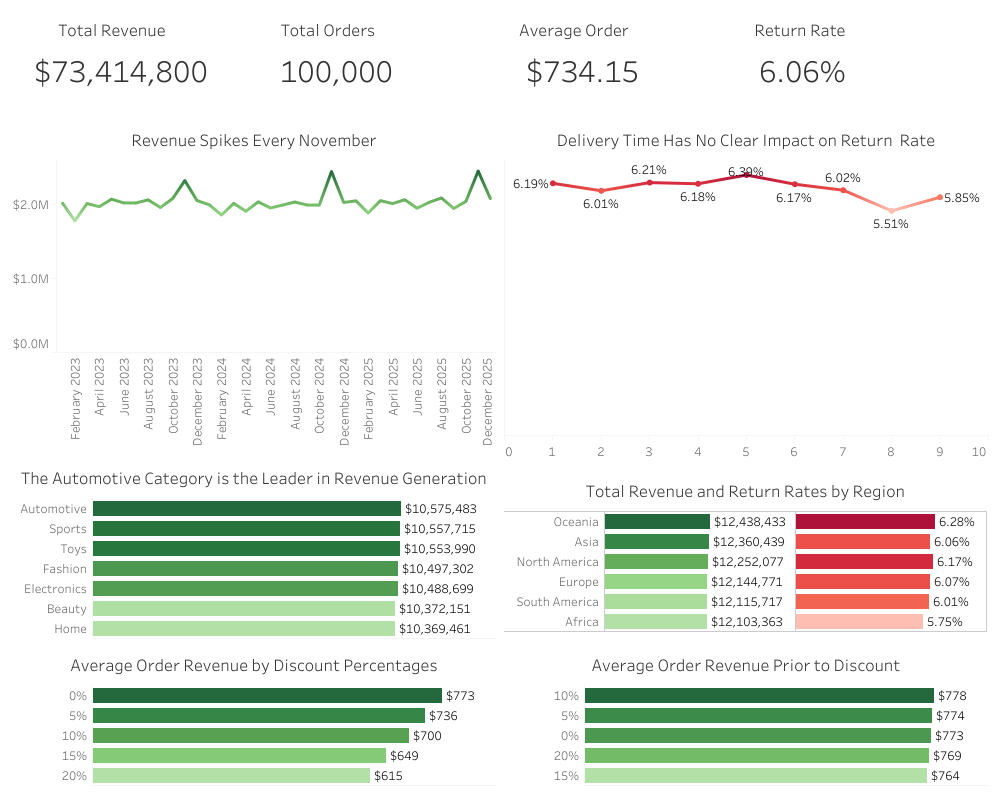

The page's visual inventory and layout, read from the dashboard file:
{"tool":"tableau","page":{"name":"ecommerce analysis","canvas":[1000,800],"ordinal":0},"visuals":[{"type":"worksheet","title":"total revenue  kpi","mark":"Automatic","box":[8,8,246,110]},{"type":"worksheet","title":"total orders kpi","mark":"Automatic","box":[254,8,246,110]},{"type":"worksheet","title":"average order kpi","mark":"Automatic","box":[500,8,246,110]},{"type":"worksheet","title":"return rate kpi","mark":"Automatic","box":[746,8,246,110]},{"type":"worksheet","title":"revenue over time","mark":"Automatic","rows":["revenue"],"cols":["order_date"],"box":[8,118,492,338]},{"type":"worksheet","title":"return rate vs delivery time","mark":"Automatic","rows":["is_returned"],"cols":["delivery_days"],"box":[500,118,492,351]},{"type":"worksheet","title":"revenue by product category","mark":"Automatic","rows":["product_category"],"cols":["revenue"],"box":[8,456,492,187]},{"type":"worksheet","title":"regional performance","mark":"Automatic","rows":["region"],"cols":["revenue","is_returned"],"box":[500,469,492,174]},{"type":"worksheet","title":"average revenue","mark":"Automatic","rows":["discount_percent"],"cols":["revenue"],"box":[8,643,492,149]},{"type":"worksheet","title":"average original revenue","mark":"Automatic","rows":["discount_percent"],"cols":["original_value"],"box":[500,643,492,149]}]}

Visuals, with their boxes in screenshot pixels (x1, y1, x2, y2), scaled from the page's 1000x800 canvas onto the 999x799 screenshot:
"total revenue  kpi" worksheet: BBox(8, 8, 254, 118)
"total orders kpi" worksheet: BBox(254, 8, 500, 118)
"average order kpi" worksheet: BBox(500, 8, 745, 118)
"return rate kpi" worksheet: BBox(745, 8, 991, 118)
"revenue over time" worksheet: BBox(8, 118, 500, 455)
"return rate vs delivery time" worksheet: BBox(500, 118, 991, 468)
"revenue by product category" worksheet: BBox(8, 455, 500, 642)
"regional performance" worksheet: BBox(500, 468, 991, 642)
"average revenue" worksheet: BBox(8, 642, 500, 791)
"average original revenue" worksheet: BBox(500, 642, 991, 791)
